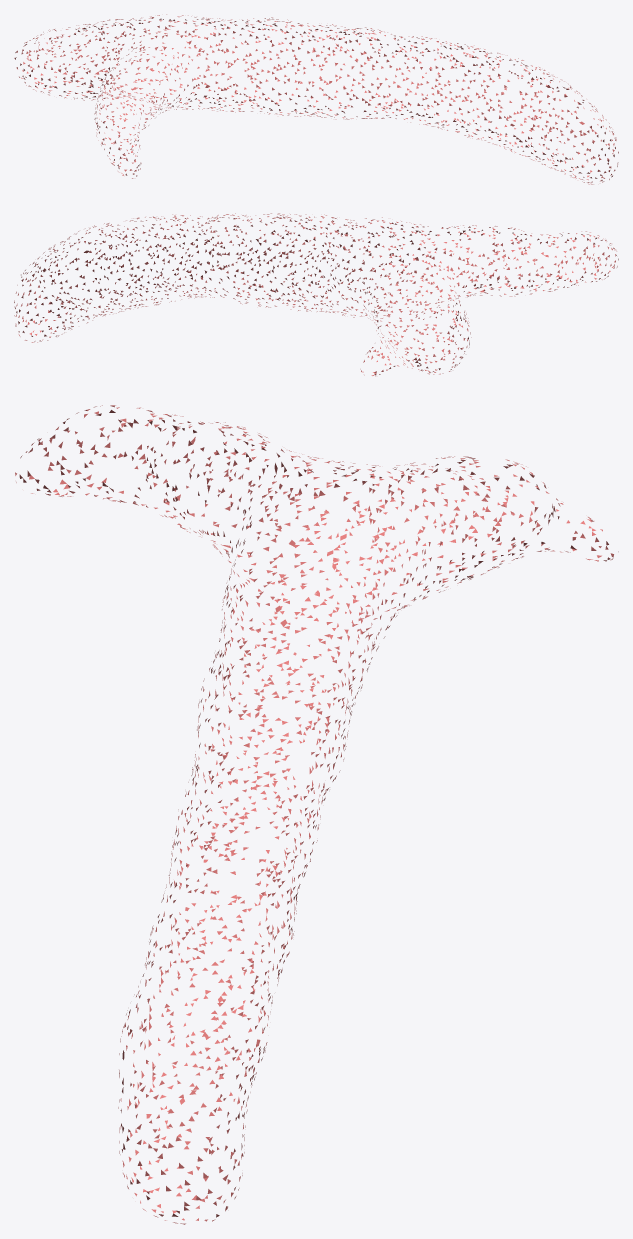
Rendered from morph_000.glb.
3 views of the same model, one above another, from view 1: azimuth 30°, elevation 25°; view 2: azimuth 150°, elevation 25°; view 3: azimuth 270°, elevation 25° (orthographic). The views are drawn at different scales.
Bounding box in the file's own units: 129 × 51.94 × 70.4.
